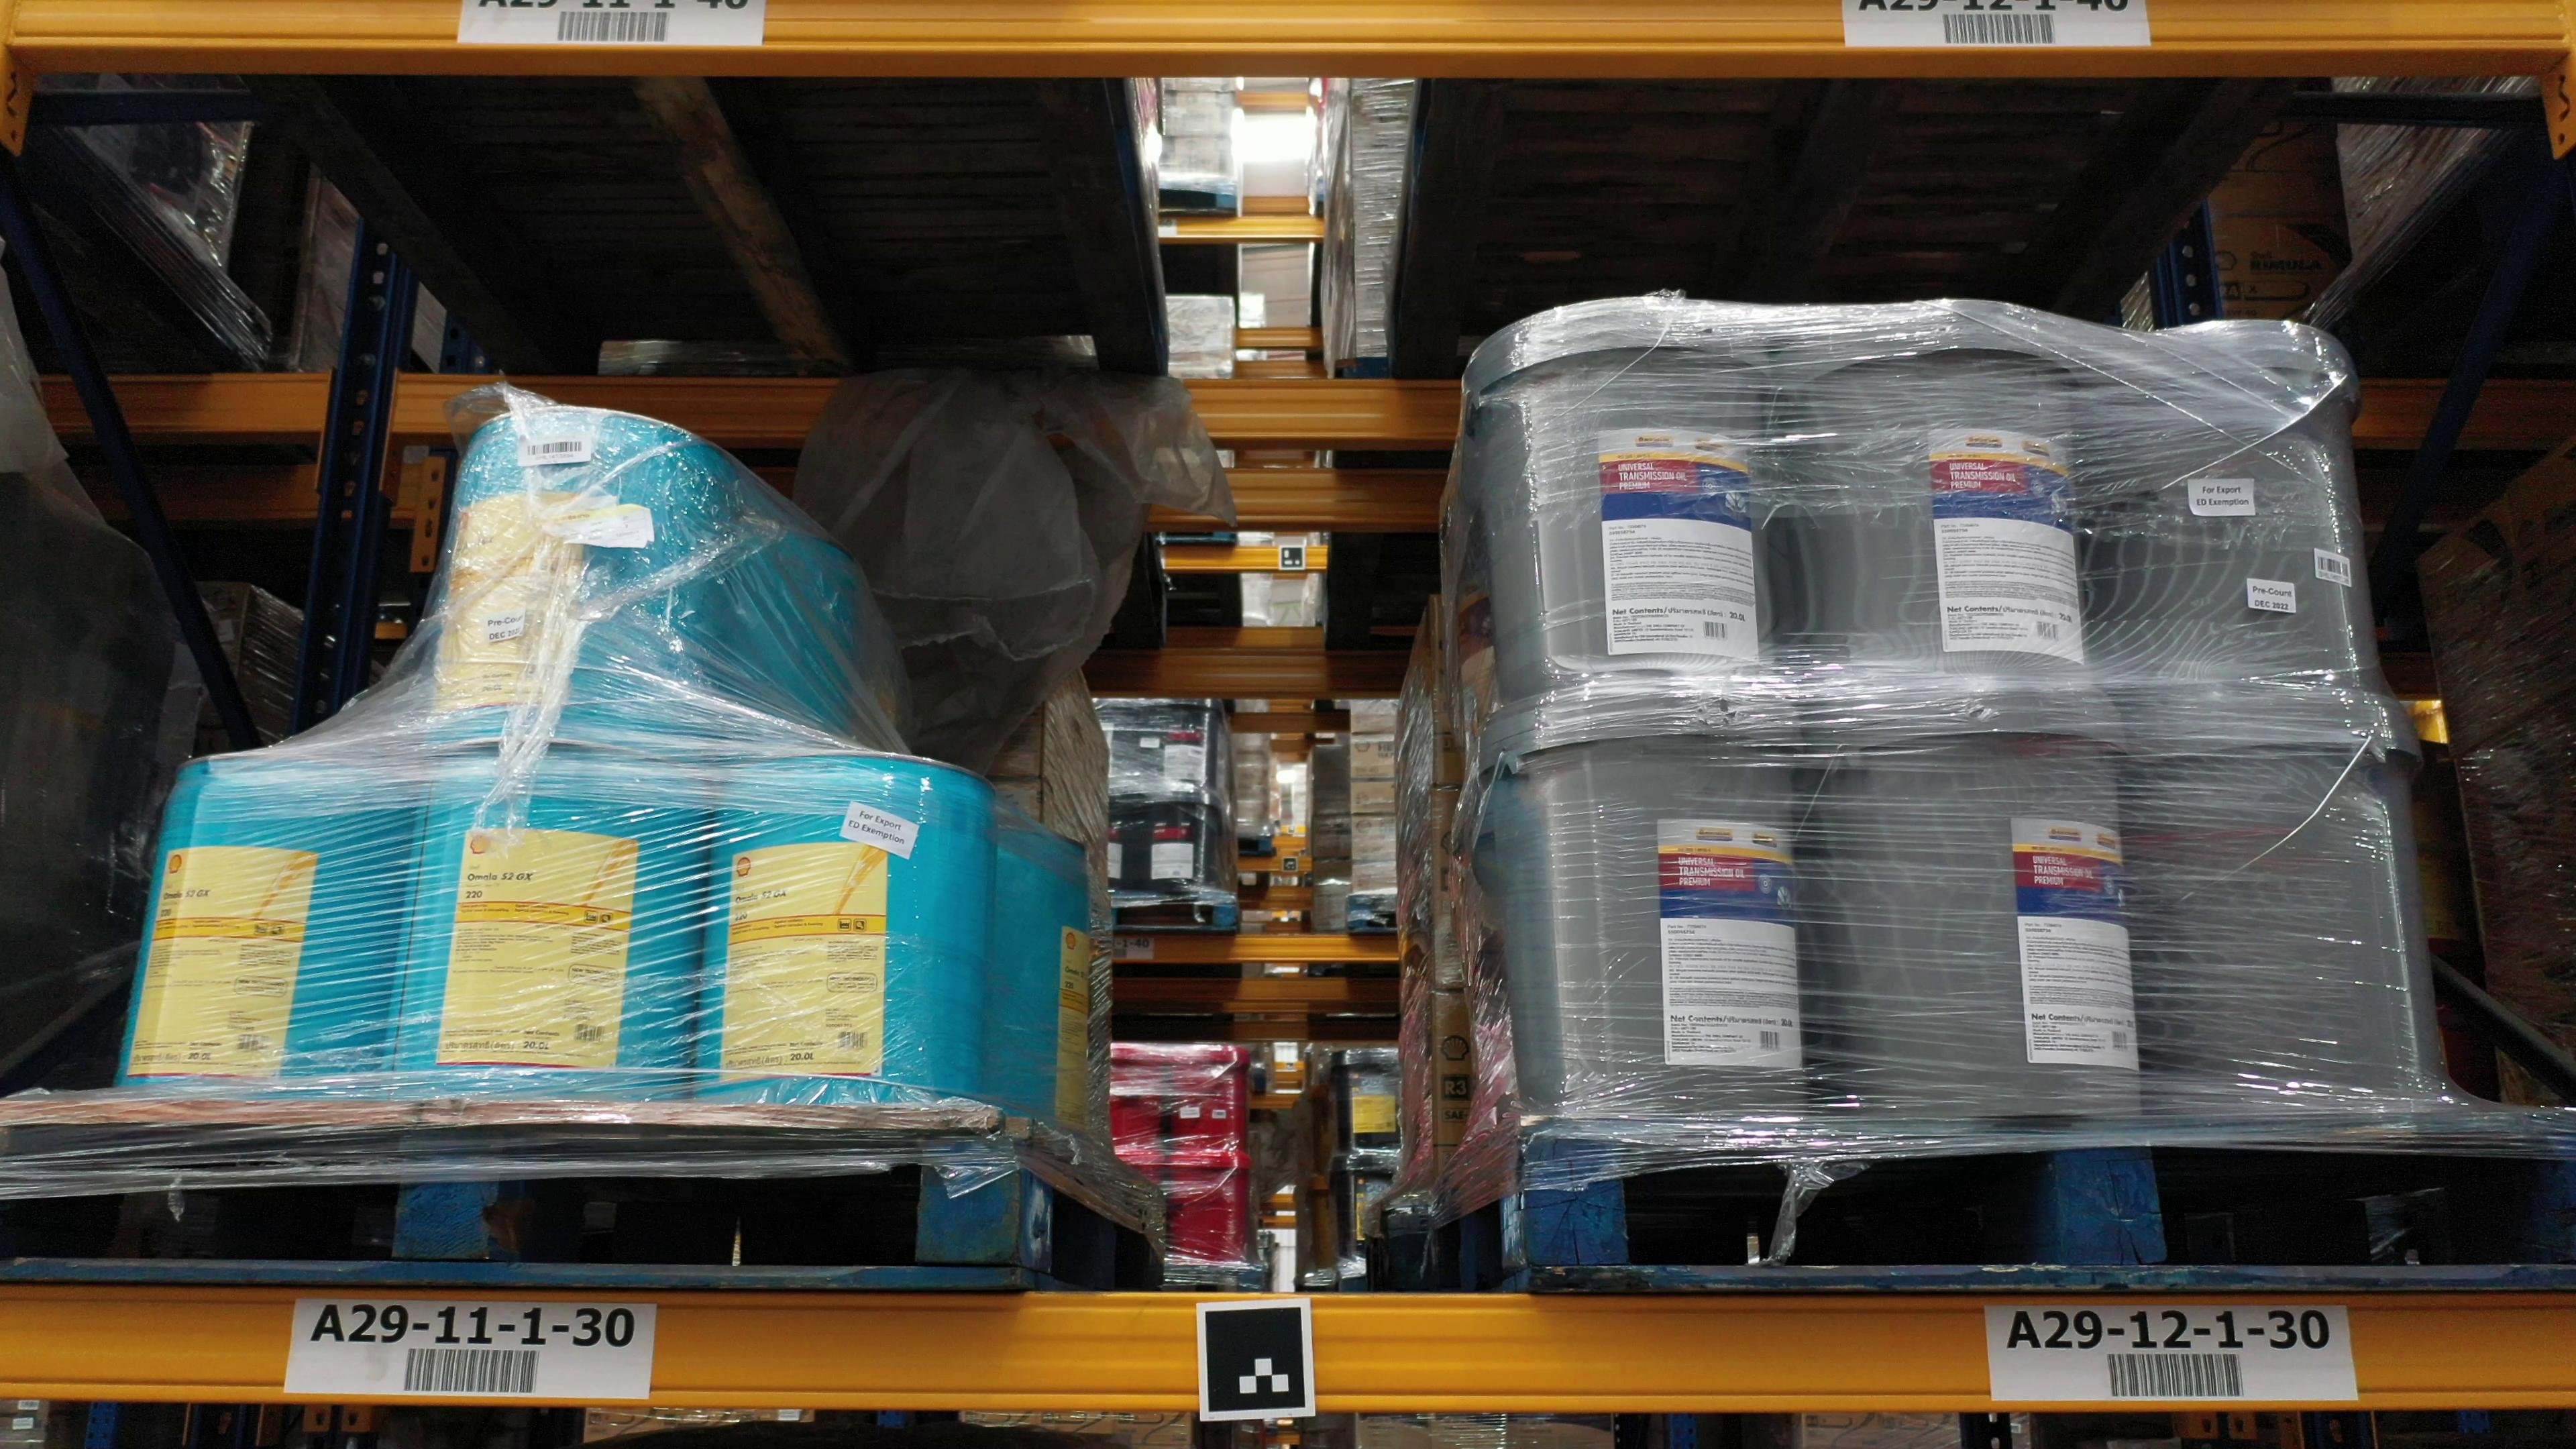-: (1812, 688, 2143, 1122), (1490, 679, 1806, 1116), (2144, 686, 2452, 1111), (1785, 295, 2102, 695), (1465, 299, 1771, 704), (382, 750, 715, 1097), (426, 409, 731, 771), (120, 745, 428, 1097), (694, 755, 996, 1102), (2109, 322, 2383, 697)
